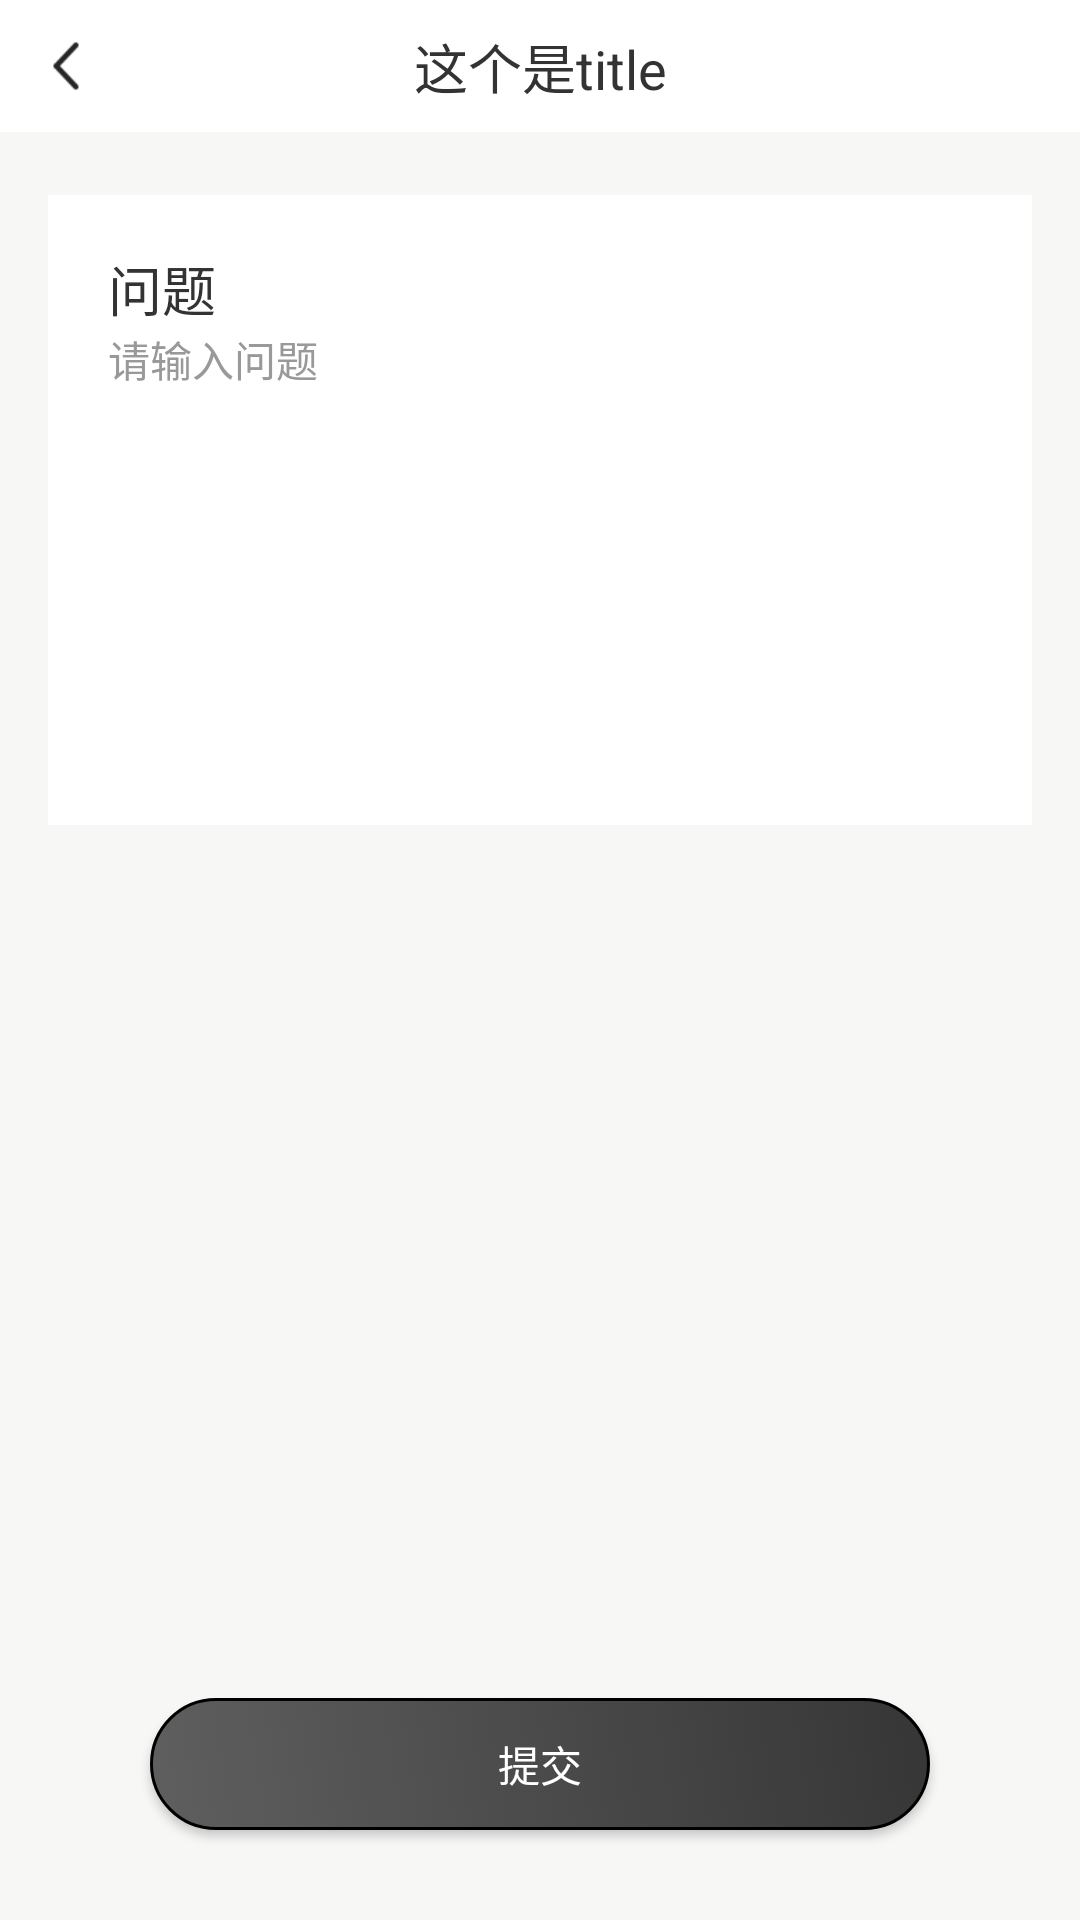

Named icons in this screenshot (1080*1920) and their centers, (x,y):
back: (66,66)
